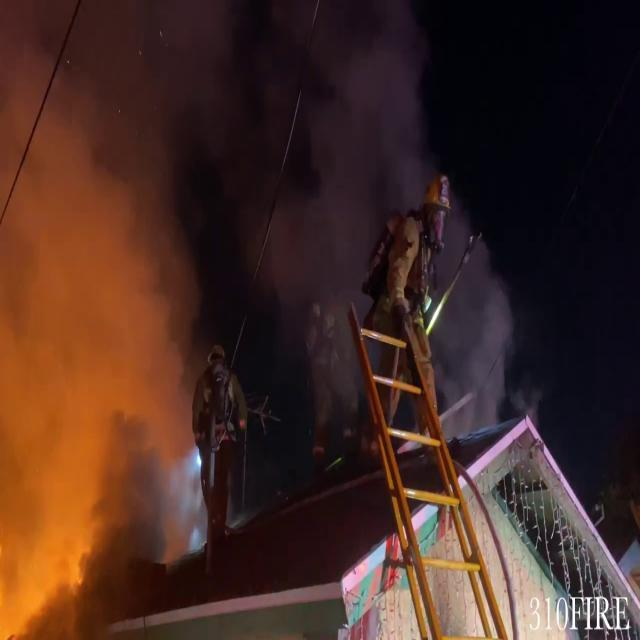Smoke: (166, 12, 492, 436), (0, 11, 210, 626)
